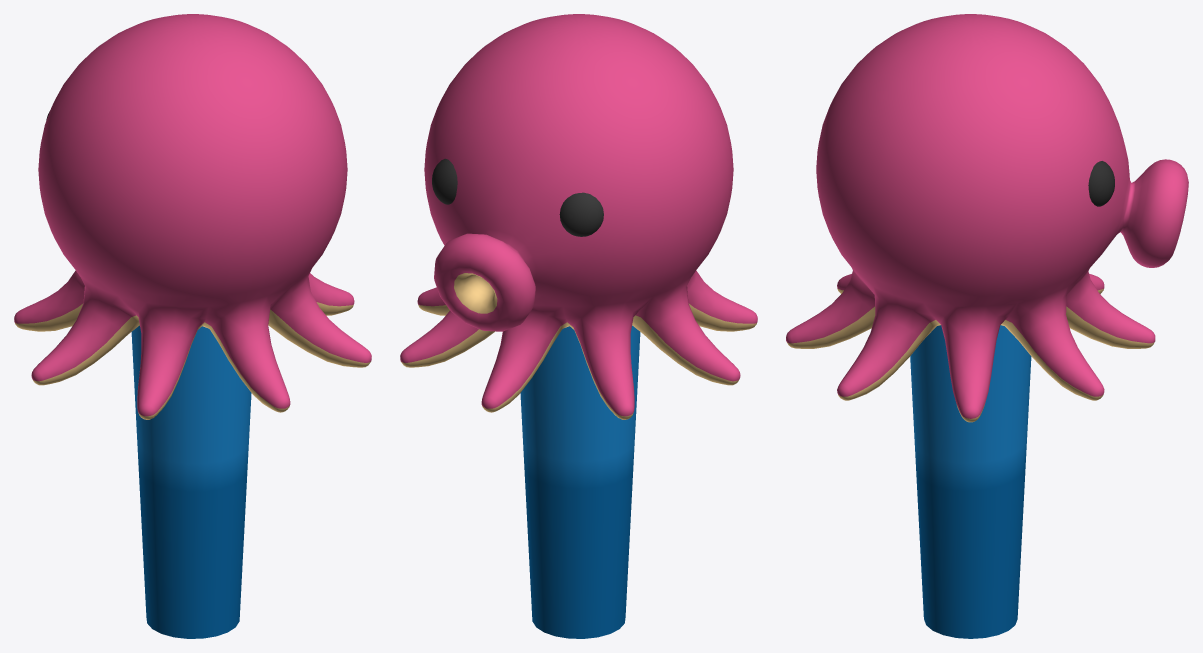
File: Octopus Knob.fbx
3 views of the same model, side by side, from view 1: azimuth 30°, elevation 25°; view 2: azimuth 150°, elevation 25°; view 3: azimuth 270°, elevation 25° (orthographic).
Visible parts, largest first — view 1: Octopus, Octopus_Gear; view 2: Octopus, Octopus_Gear; view 3: Octopus, Octopus_Gear.
Boxes of the visible parts, x1=… form: Octopus: x1=14, y1=14, x2=371, y2=419; Octopus_Gear: x1=131, y1=325, x2=251, y2=638; Octopus: x1=400, y1=14, x2=757, y2=419; Octopus_Gear: x1=520, y1=325, x2=640, y2=638; Octopus: x1=786, y1=14, x2=1188, y2=422; Octopus_Gear: x1=910, y1=325, x2=1031, y2=638.
Size of the model in its own units: 35.6 by 62.94 by 38.82.
